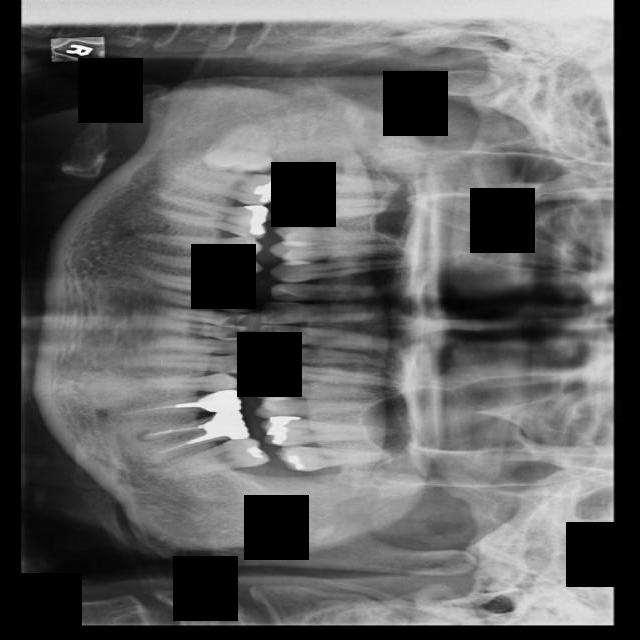52: (219, 195, 275, 245), (228, 167, 281, 211), (193, 407, 249, 447), (258, 415, 320, 449), (278, 192, 336, 227), (214, 435, 271, 470), (286, 168, 342, 196), (276, 445, 329, 473), (190, 389, 242, 414)
73: (134, 415, 210, 463), (116, 396, 196, 418), (63, 598, 71, 606)
BioHorizons Implant: (276, 445, 391, 475)
Blue Sky Bio Implant: (157, 433, 271, 481)
Caries: (286, 168, 398, 196)
Implant: (168, 163, 280, 208)
Keystone Dental Implant: (201, 118, 278, 180)
